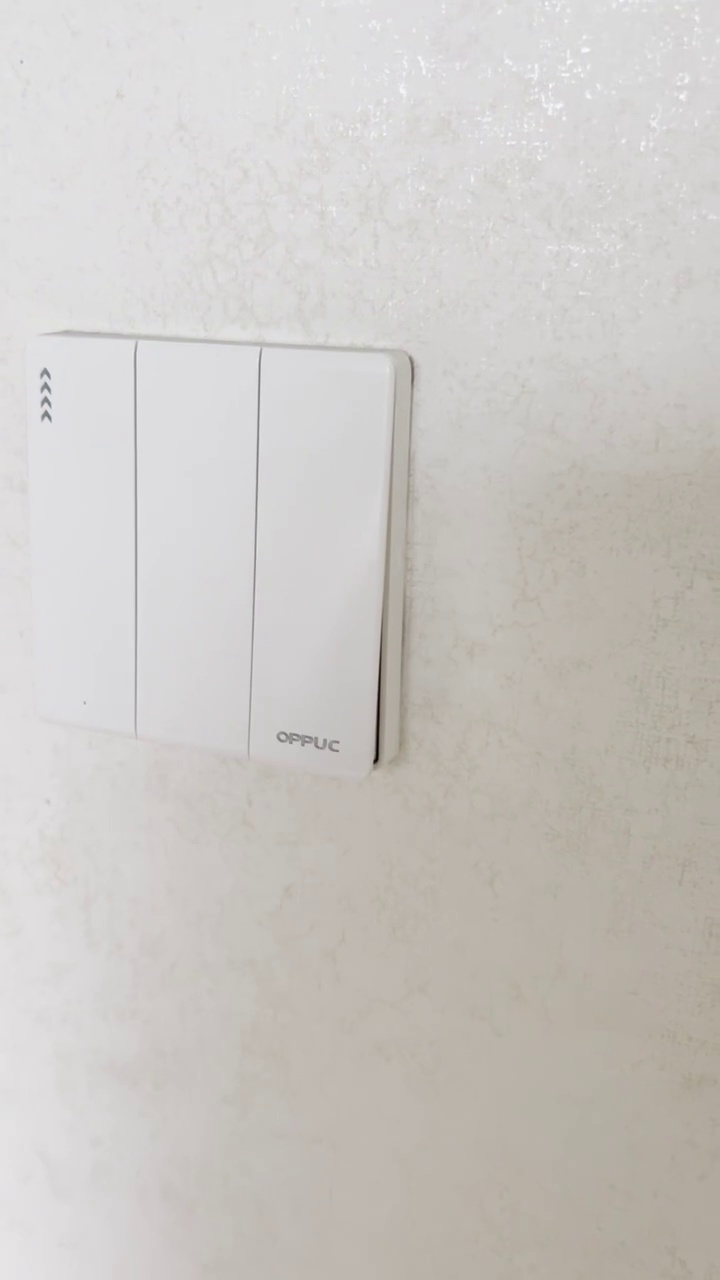button1: (254, 360, 385, 759), (143, 360, 255, 738), (30, 340, 134, 720)
